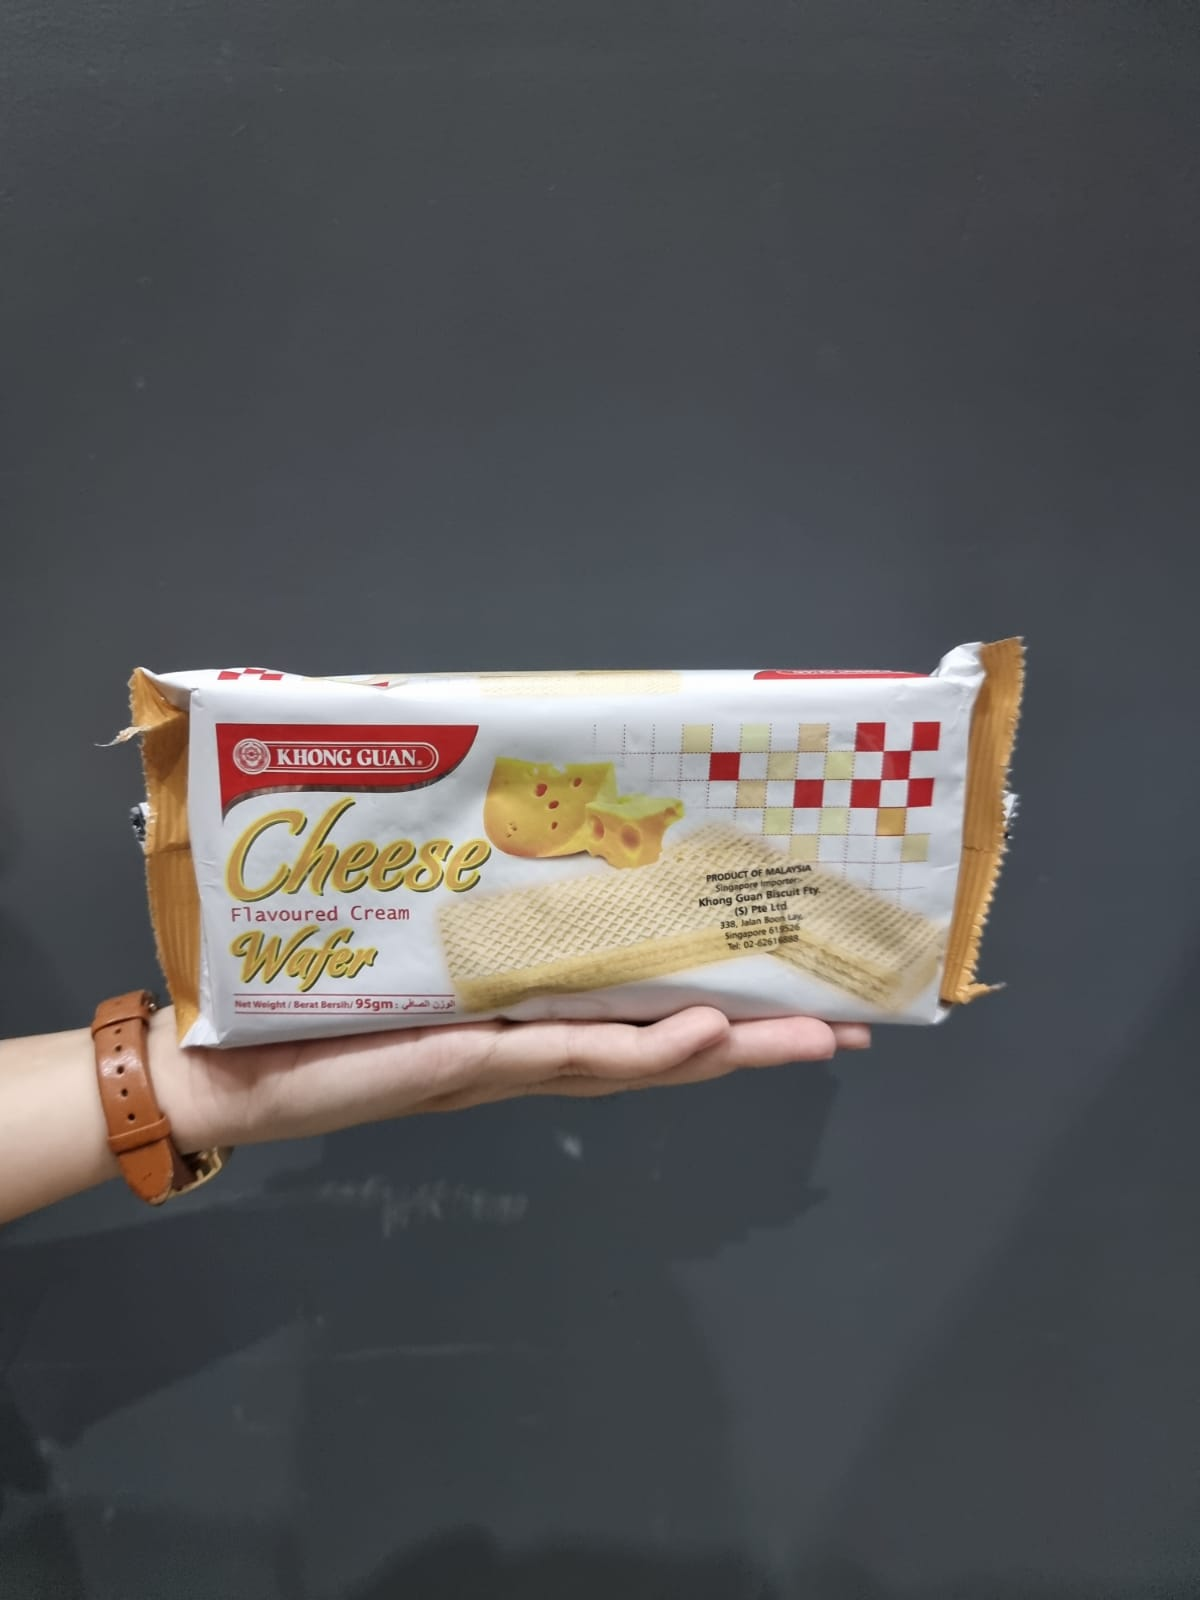Biscuits: (185, 690, 945, 1017)
